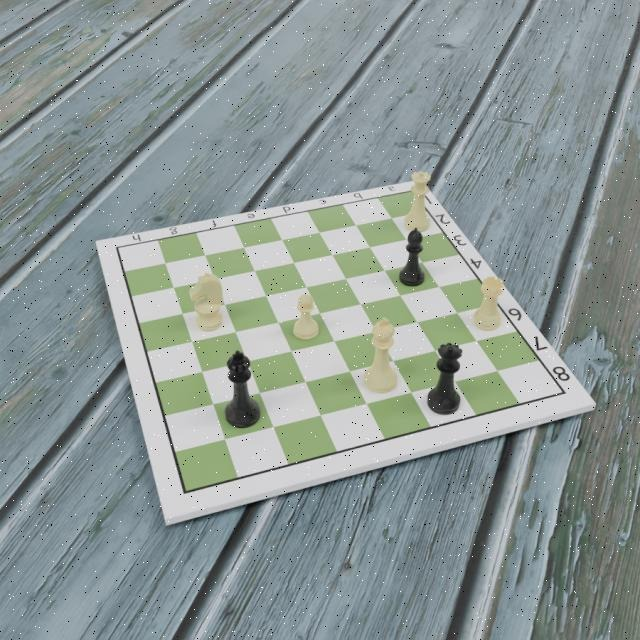black-bishop: (398, 224, 425, 287)
black-king: (222, 346, 261, 429)
black-queen: (427, 342, 463, 416)
white-king: (362, 316, 398, 396)
white-knight: (188, 270, 228, 334)
white-pawn: (292, 293, 320, 343)
white-queen: (403, 169, 433, 234)
white-rook: (474, 275, 504, 333)
